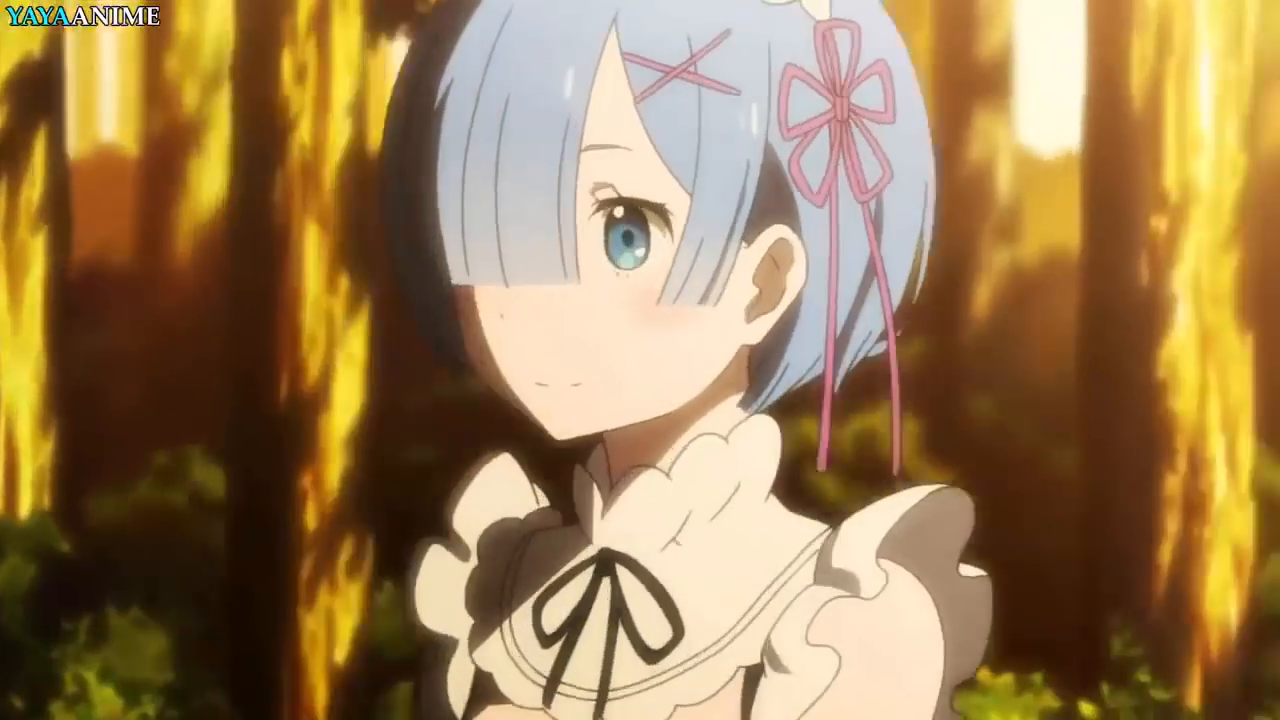REM: (380, 1, 940, 442)
